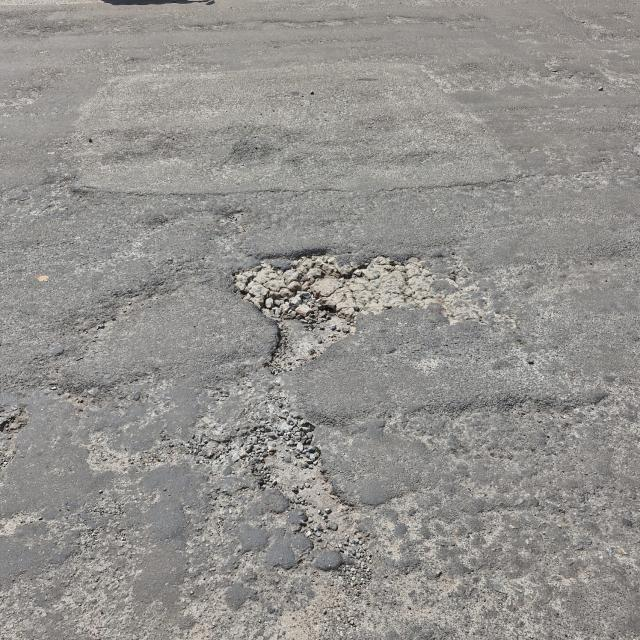pothole: (173, 414, 416, 620), (227, 240, 469, 375), (0, 499, 149, 639), (426, 392, 640, 467), (59, 262, 176, 348), (56, 360, 172, 411), (0, 386, 39, 476)
